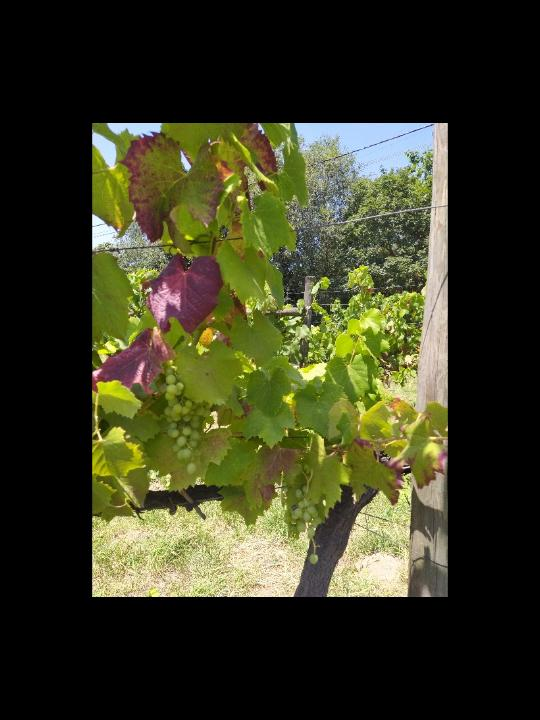grape: (155, 360, 215, 482)
